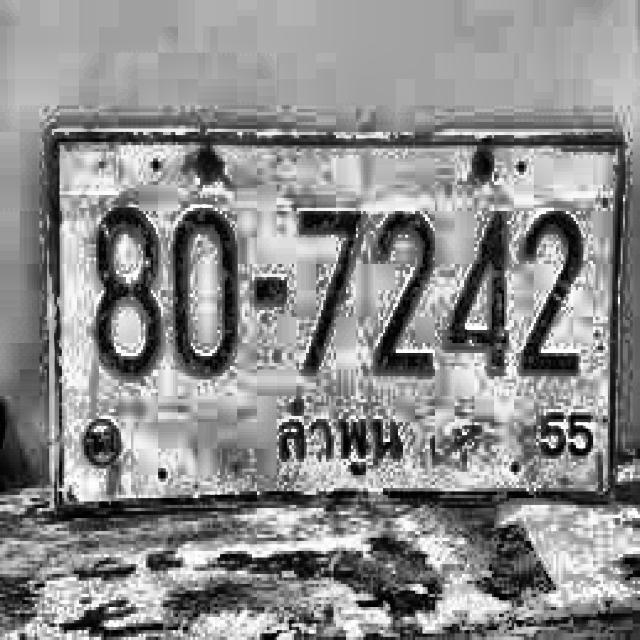license-plate: (43, 103, 630, 528)
